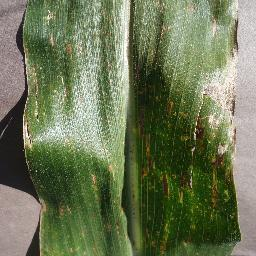Gray_Leaf_Spot: (136, 1, 247, 256), (16, 5, 47, 146), (84, 0, 123, 70), (13, 155, 51, 221), (31, 238, 114, 256), (42, 8, 64, 68), (104, 160, 136, 187), (103, 216, 134, 236), (58, 77, 80, 102), (63, 32, 78, 63), (86, 171, 103, 198), (56, 197, 70, 217), (126, 144, 140, 163), (115, 202, 130, 217), (83, 219, 91, 245), (129, 192, 136, 202)
